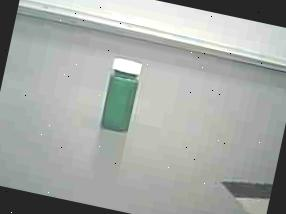Bottle C: (84, 51, 154, 144)
